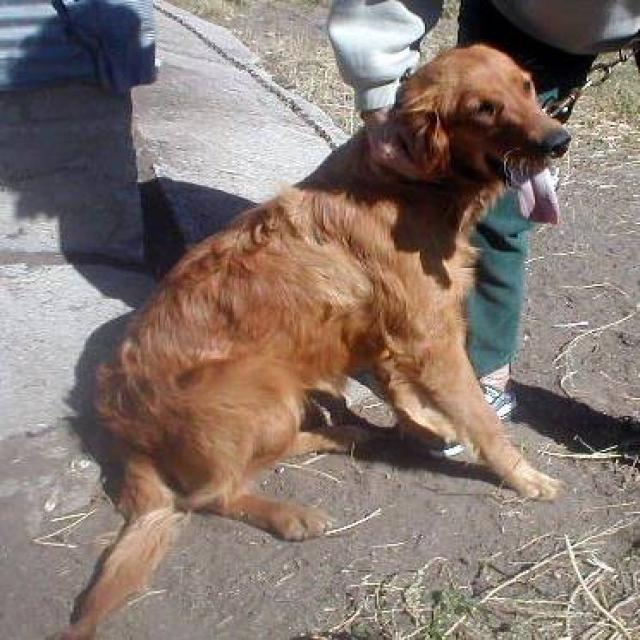dog: (58, 35, 576, 640)
